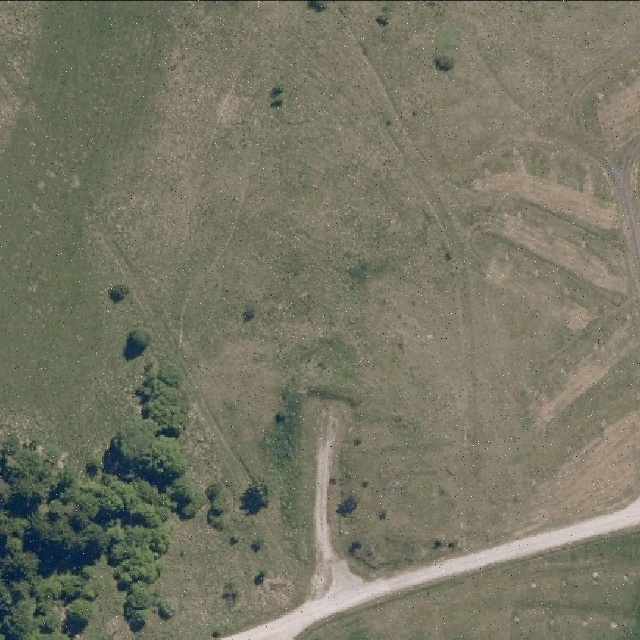vegetation: (0, 425, 272, 638), (134, 365, 191, 432), (106, 281, 133, 306), (128, 325, 154, 349)
